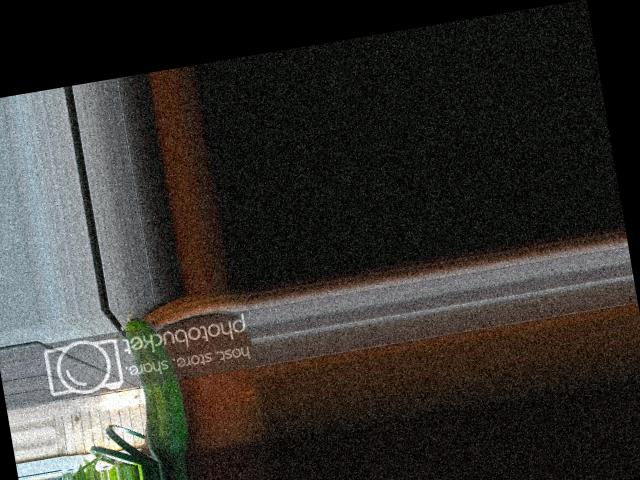cucumber: (121, 305, 191, 462)
